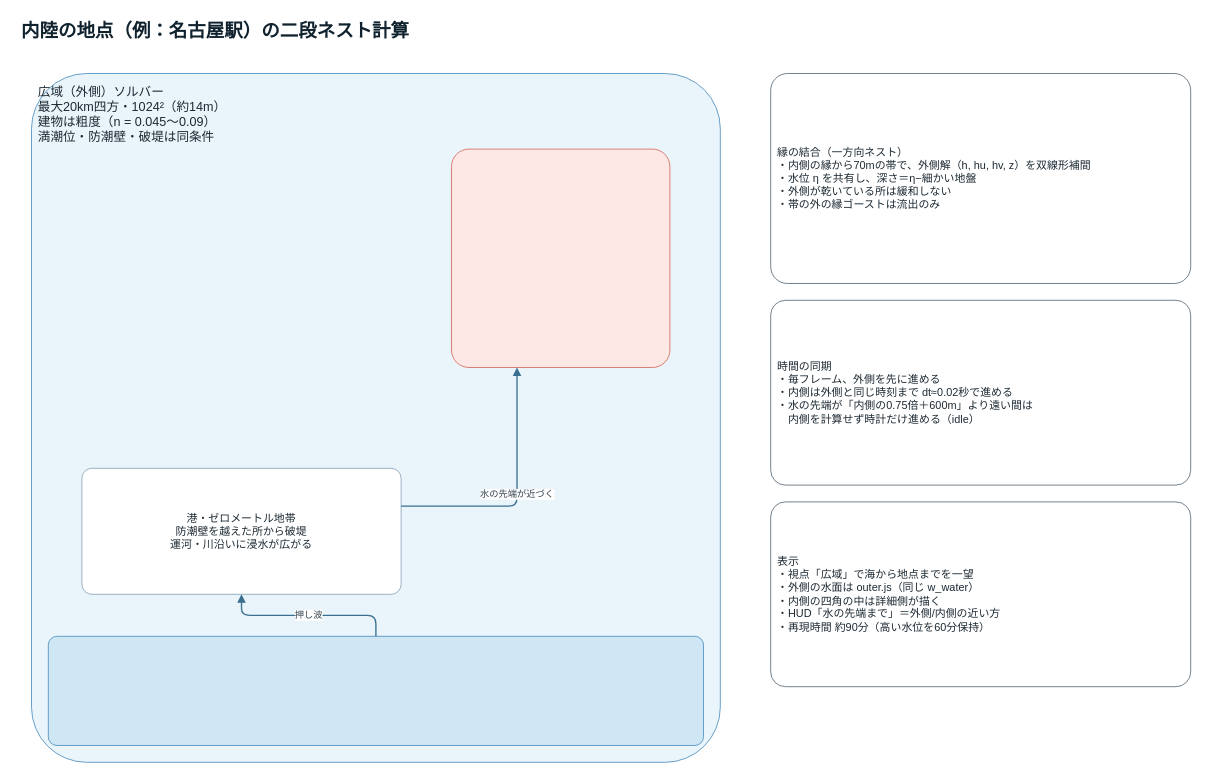
This 1205x777 diagram has some shape labels left out. Here are the shapes that lost their labels. From the top down, the centre of each, then its label:
At point (560, 258): "詳細（内側）ソルバー 地点の周り1.5km四方 768²（約2m） 建物＝反射壁".
At point (375, 690): "海（造波帯：範囲の4%幅、τ=2.5秒、リーマン不変量） 開けた海を最寄りの広い水面から3.5km先まで含める".
